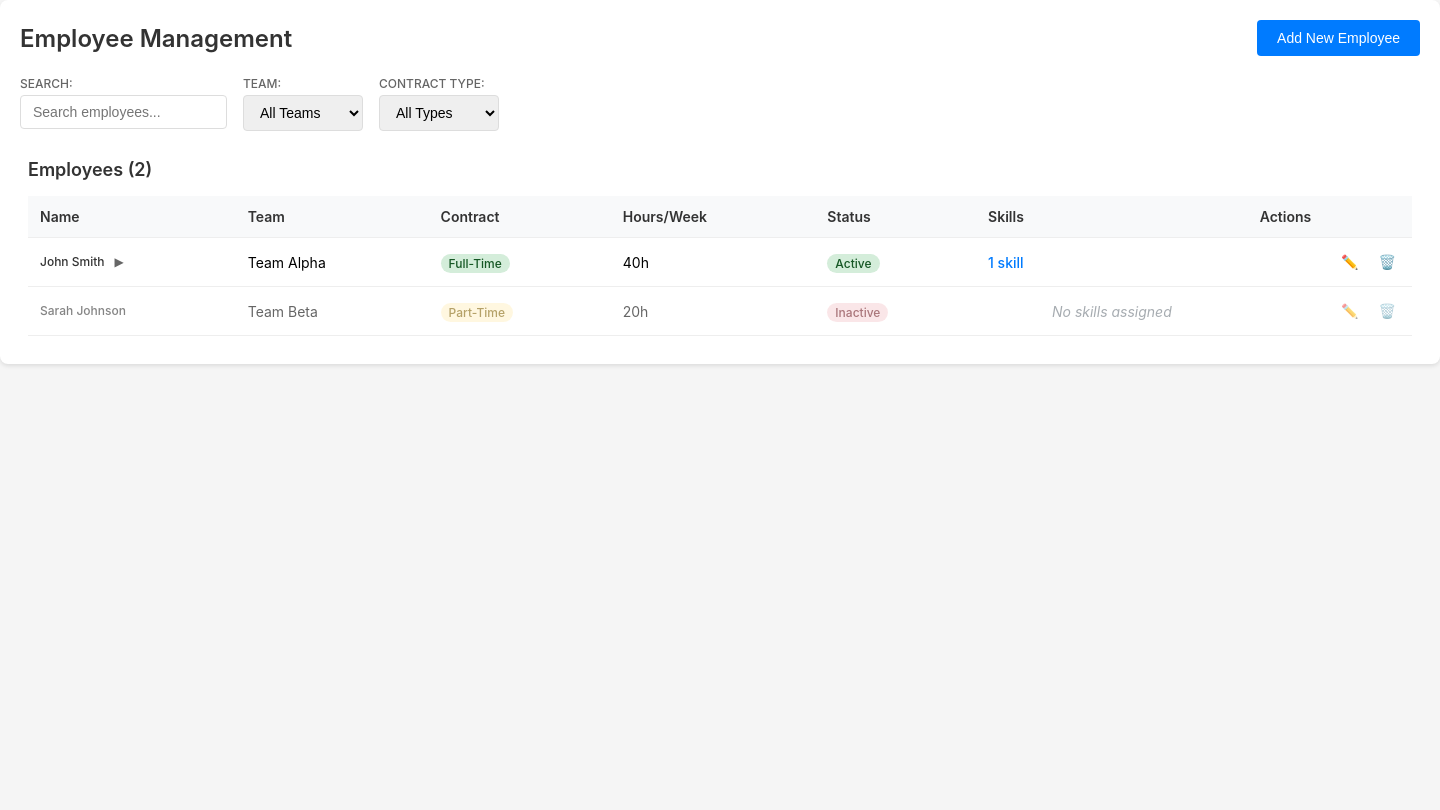
Scenario: EmployeeManagement › opens create employee form
Click the button "Add New Employee".
click(1338, 38)  # box [1257,20,1420,56]
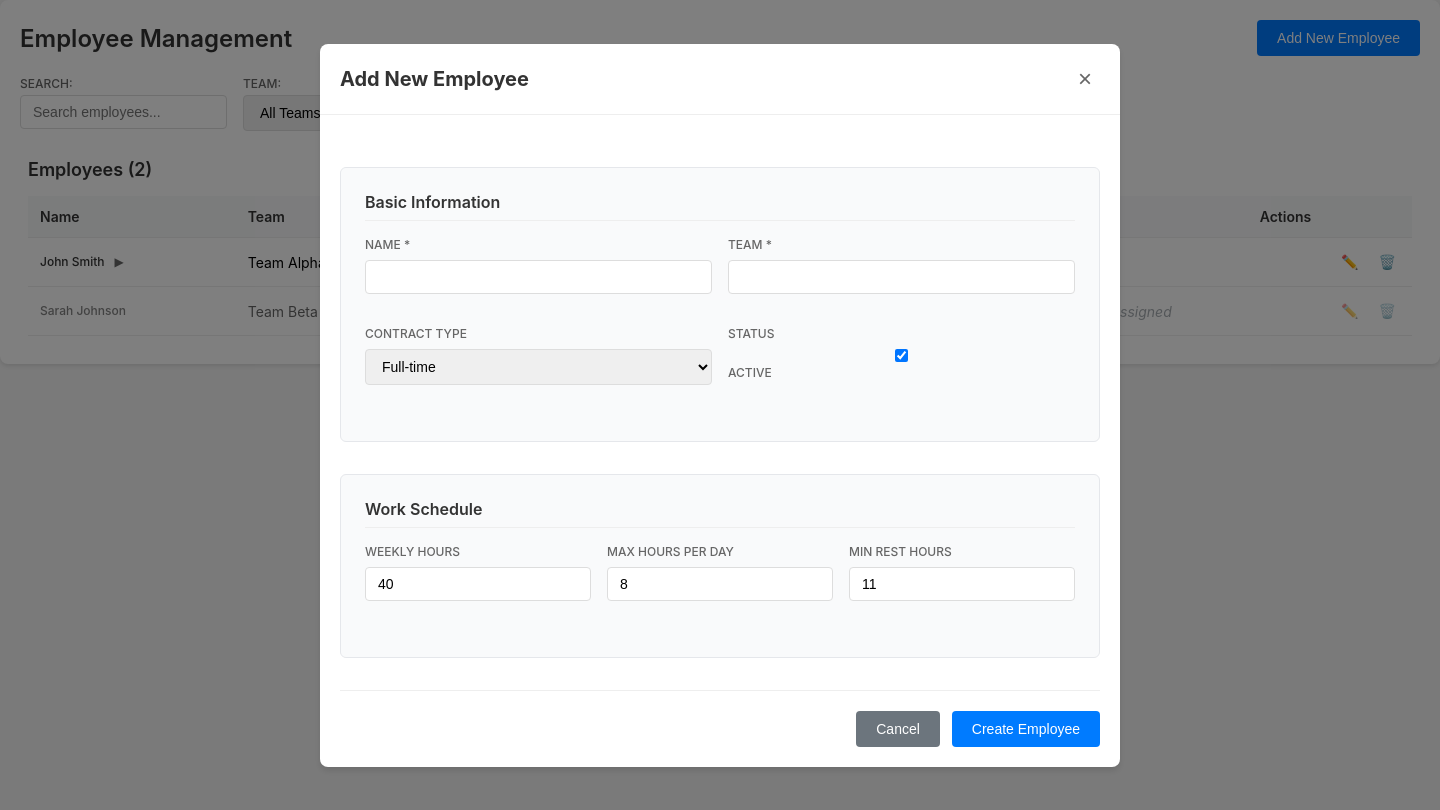
Result: the field labelled "Name *" is shown at [365,260,712,294]
Result: the field labelled "Team *" is shown at [728,260,1075,294]
Result: the button "Create Employee" is shown at [952,710,1100,746]
